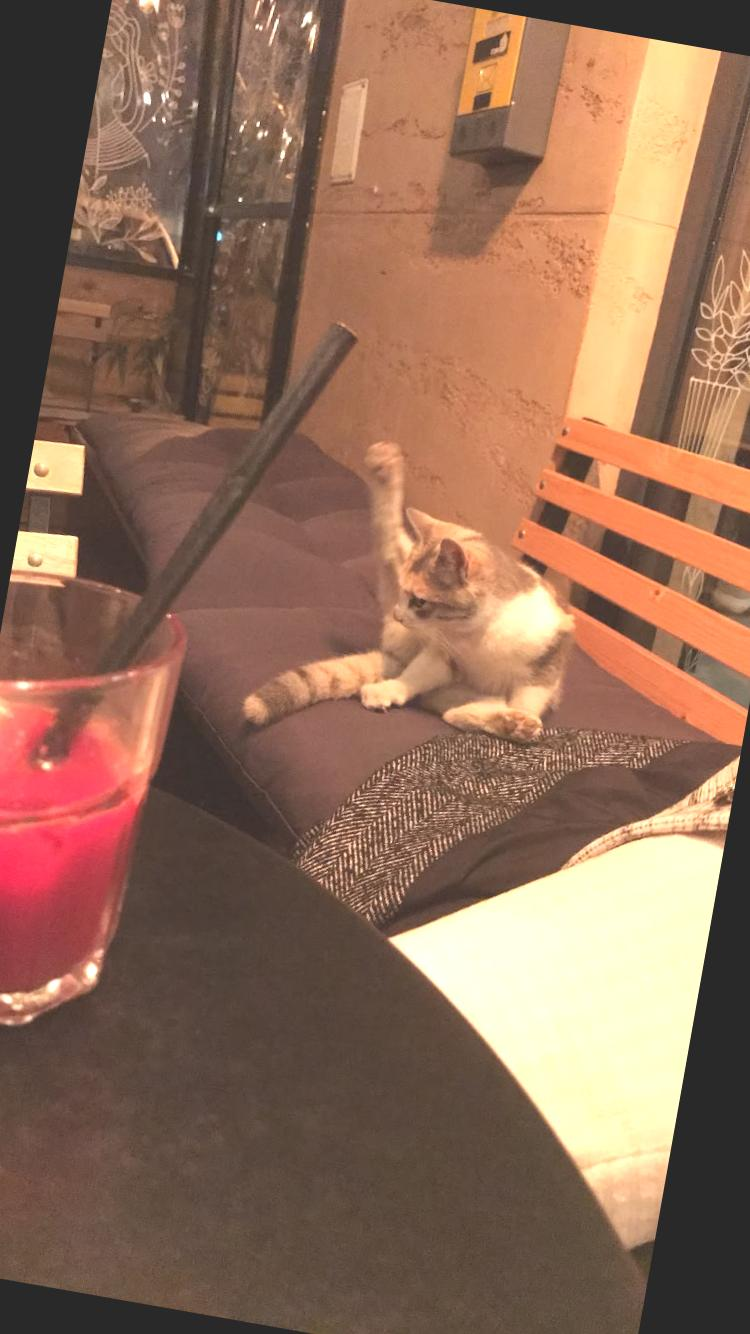macka: (237, 422, 602, 778)
